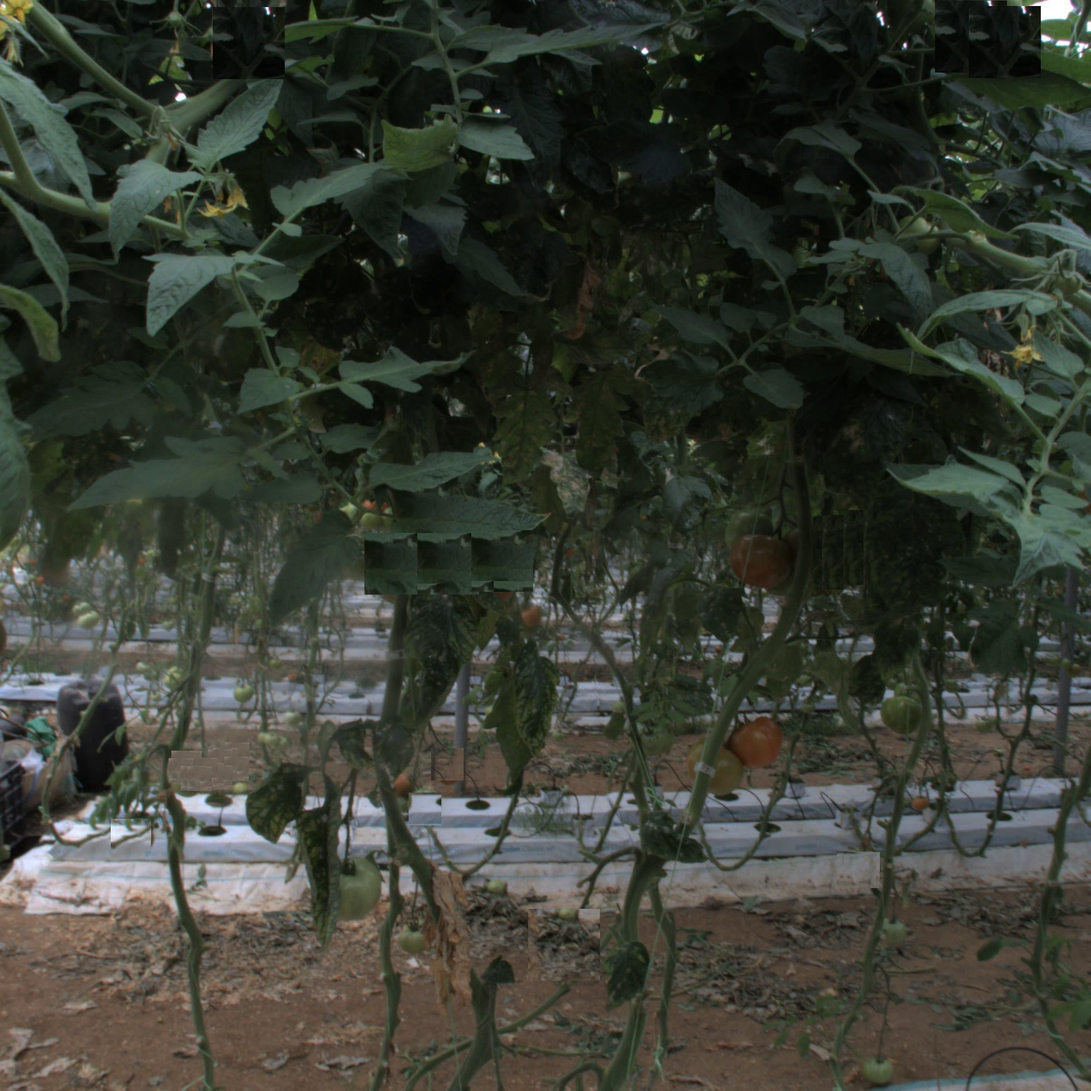fully-ripe: (734, 717, 782, 765)
semi-ripe: (728, 521, 793, 587)
unripe: (315, 853, 380, 919), (688, 737, 745, 794), (882, 697, 923, 738)
